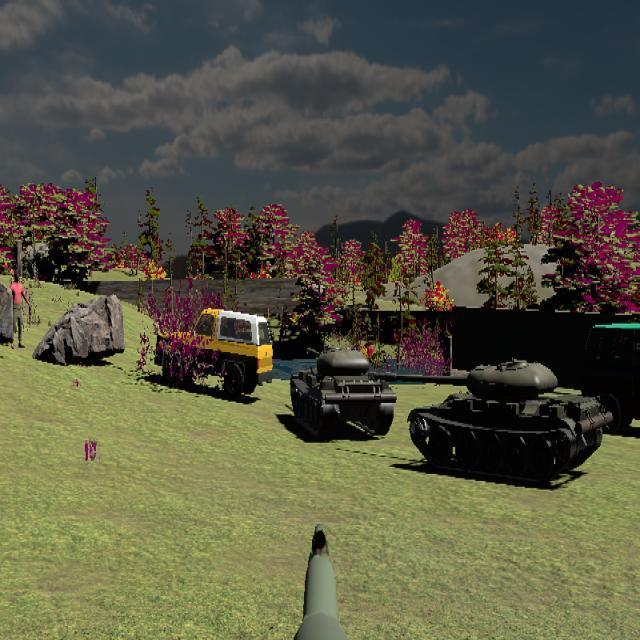Human: (8, 270, 30, 349)
Tank: (369, 355, 607, 485), (290, 345, 397, 440)
car: (154, 308, 273, 396), (582, 321, 640, 434)
